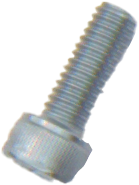M6-16mm: (0, 1, 138, 184)
